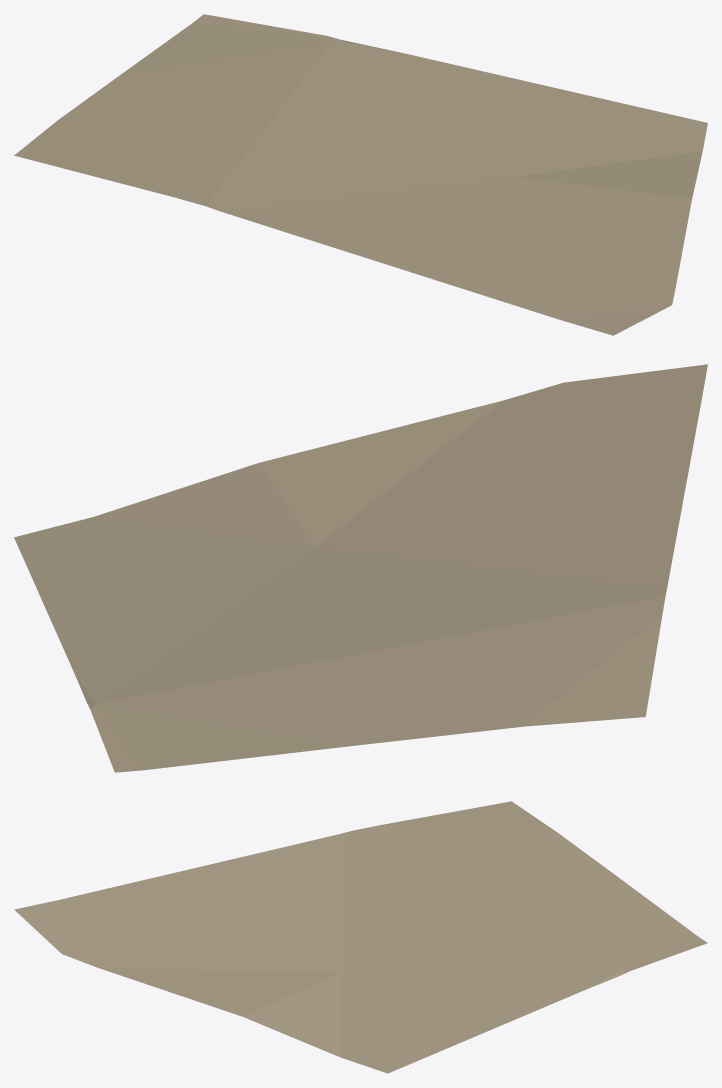
Rendered from farm_-34_-31_soil.glb.
The picture shows the model from 3 angles, top to bottom: view 1: azimuth 30°, elevation 25°; view 2: azimuth 150°, elevation 25°; view 3: azimuth 270°, elevation 25°; orthographic projection. The views are drawn at different scales.
Visible parts, largest first — view 1: geometry_0; view 2: geometry_0; view 3: geometry_0.
Boxes of the visible parts, x1=… form: geometry_0: x1=14, y1=14, x2=707, y2=335; geometry_0: x1=14, y1=364, x2=707, y2=772; geometry_0: x1=14, y1=801, x2=707, y2=1073.
Size of the model in its own units: 155 by 14.92 by 199.
